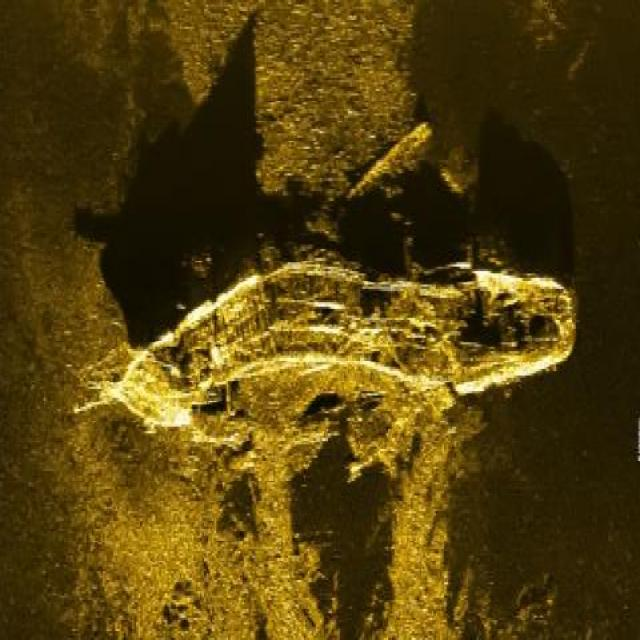ship: (80, 249, 585, 442)
